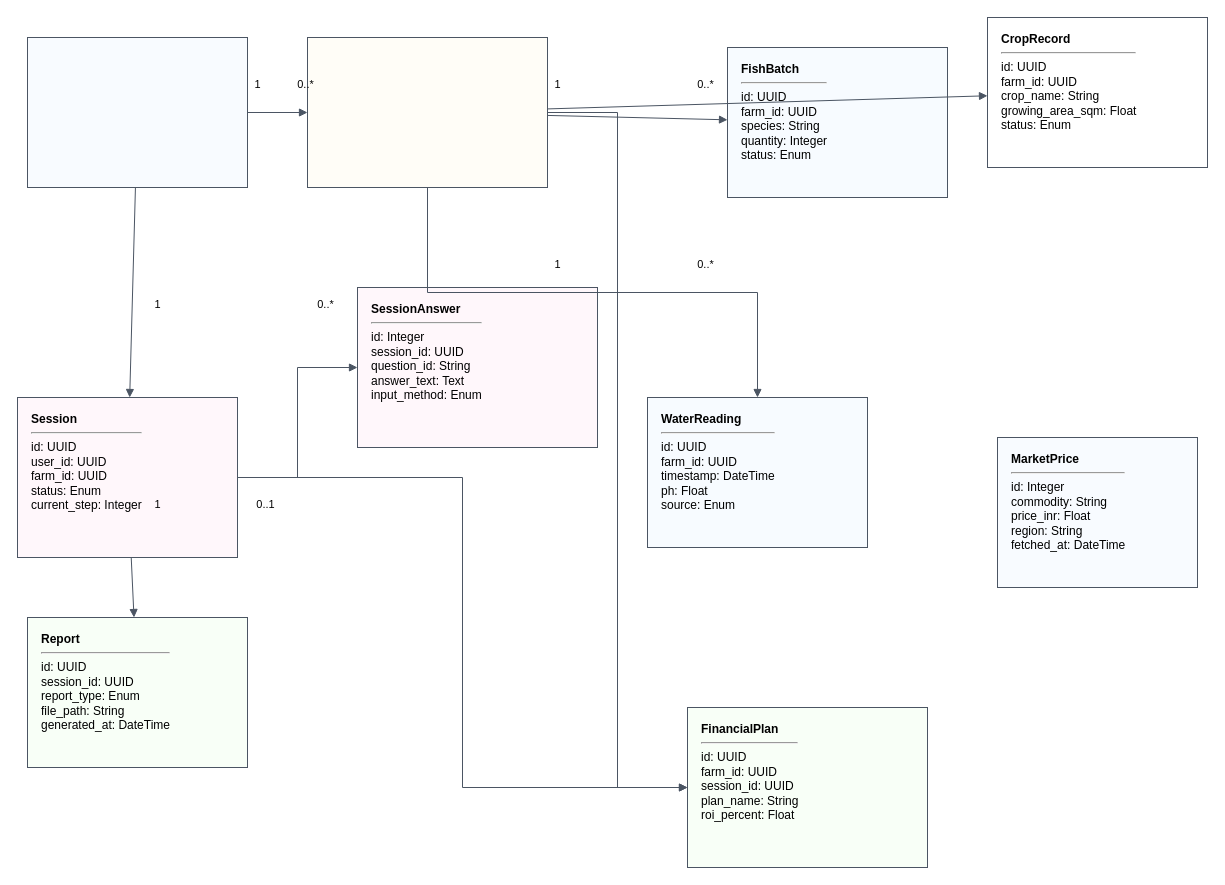
This 1225x885 diagram has some shape labels left out. Each missing label, with the box of its shape:
Farm id: UUID owner_id: UUID name: String location: String system_type: String: (306, 36, 548, 188)
User id: UUID email: String full_name: String role: Enum is_active: Boolean: (26, 36, 248, 188)
